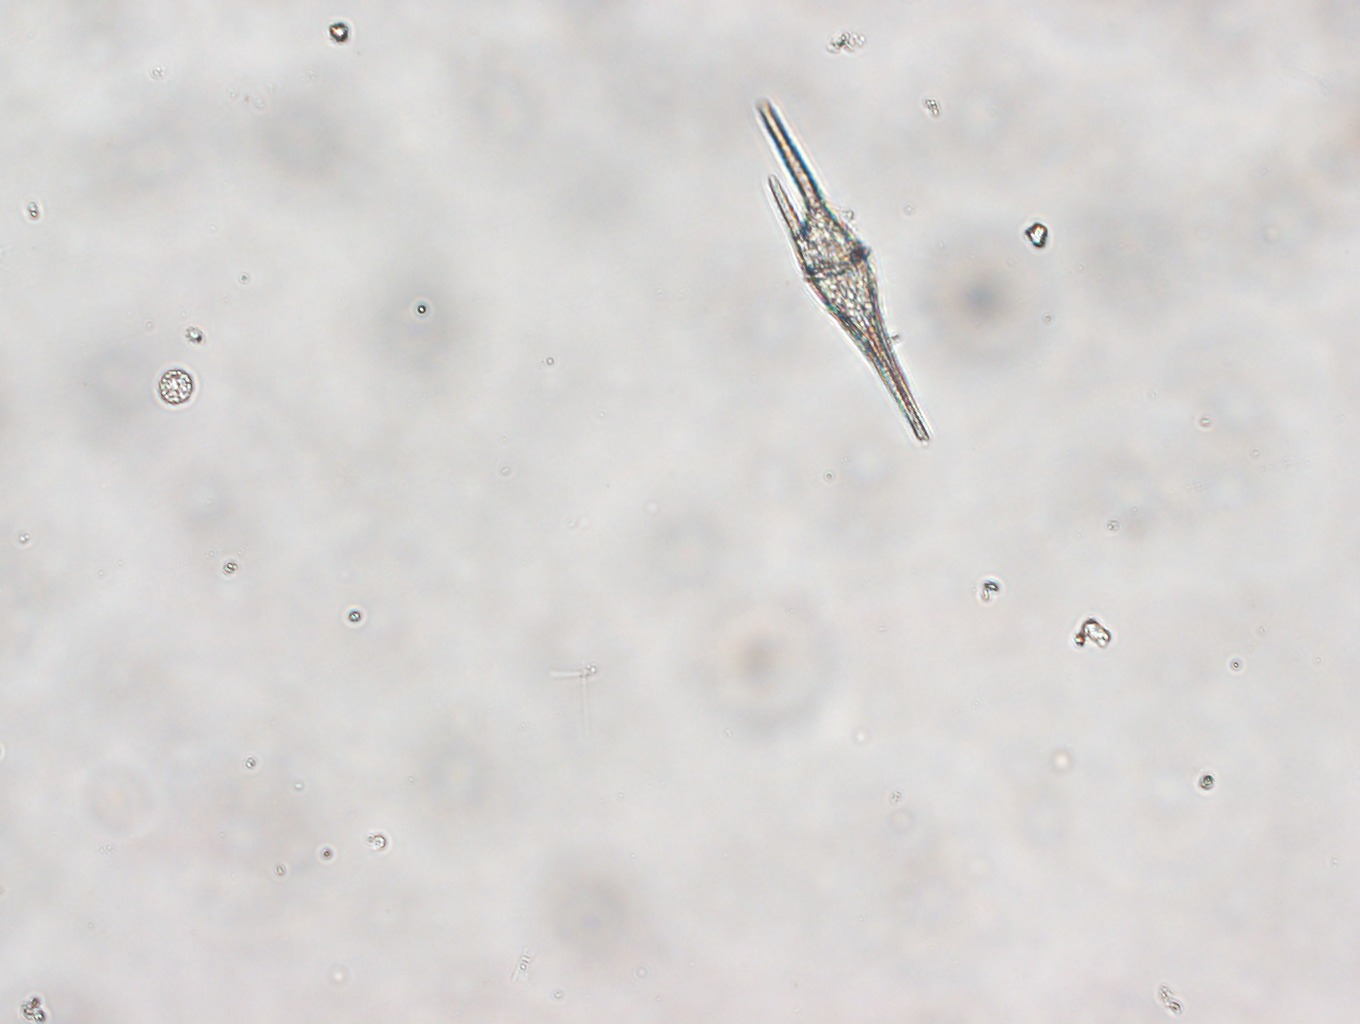ceratium furca: (749, 94, 931, 447)
